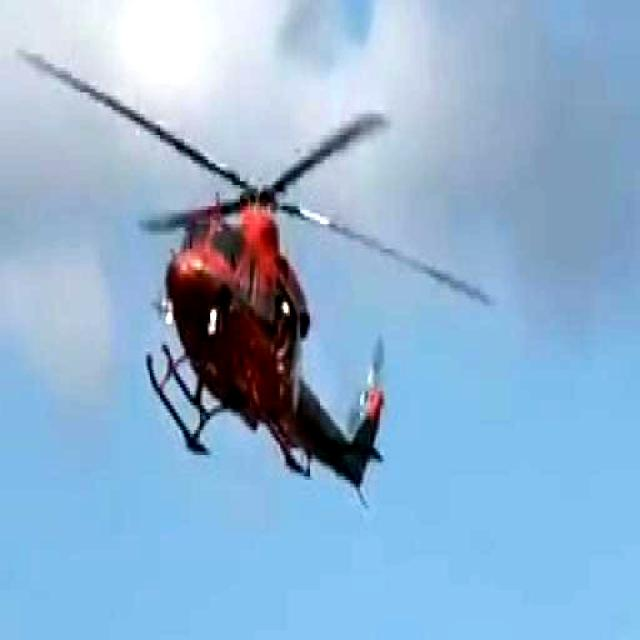drone: (35, 34, 486, 512)
